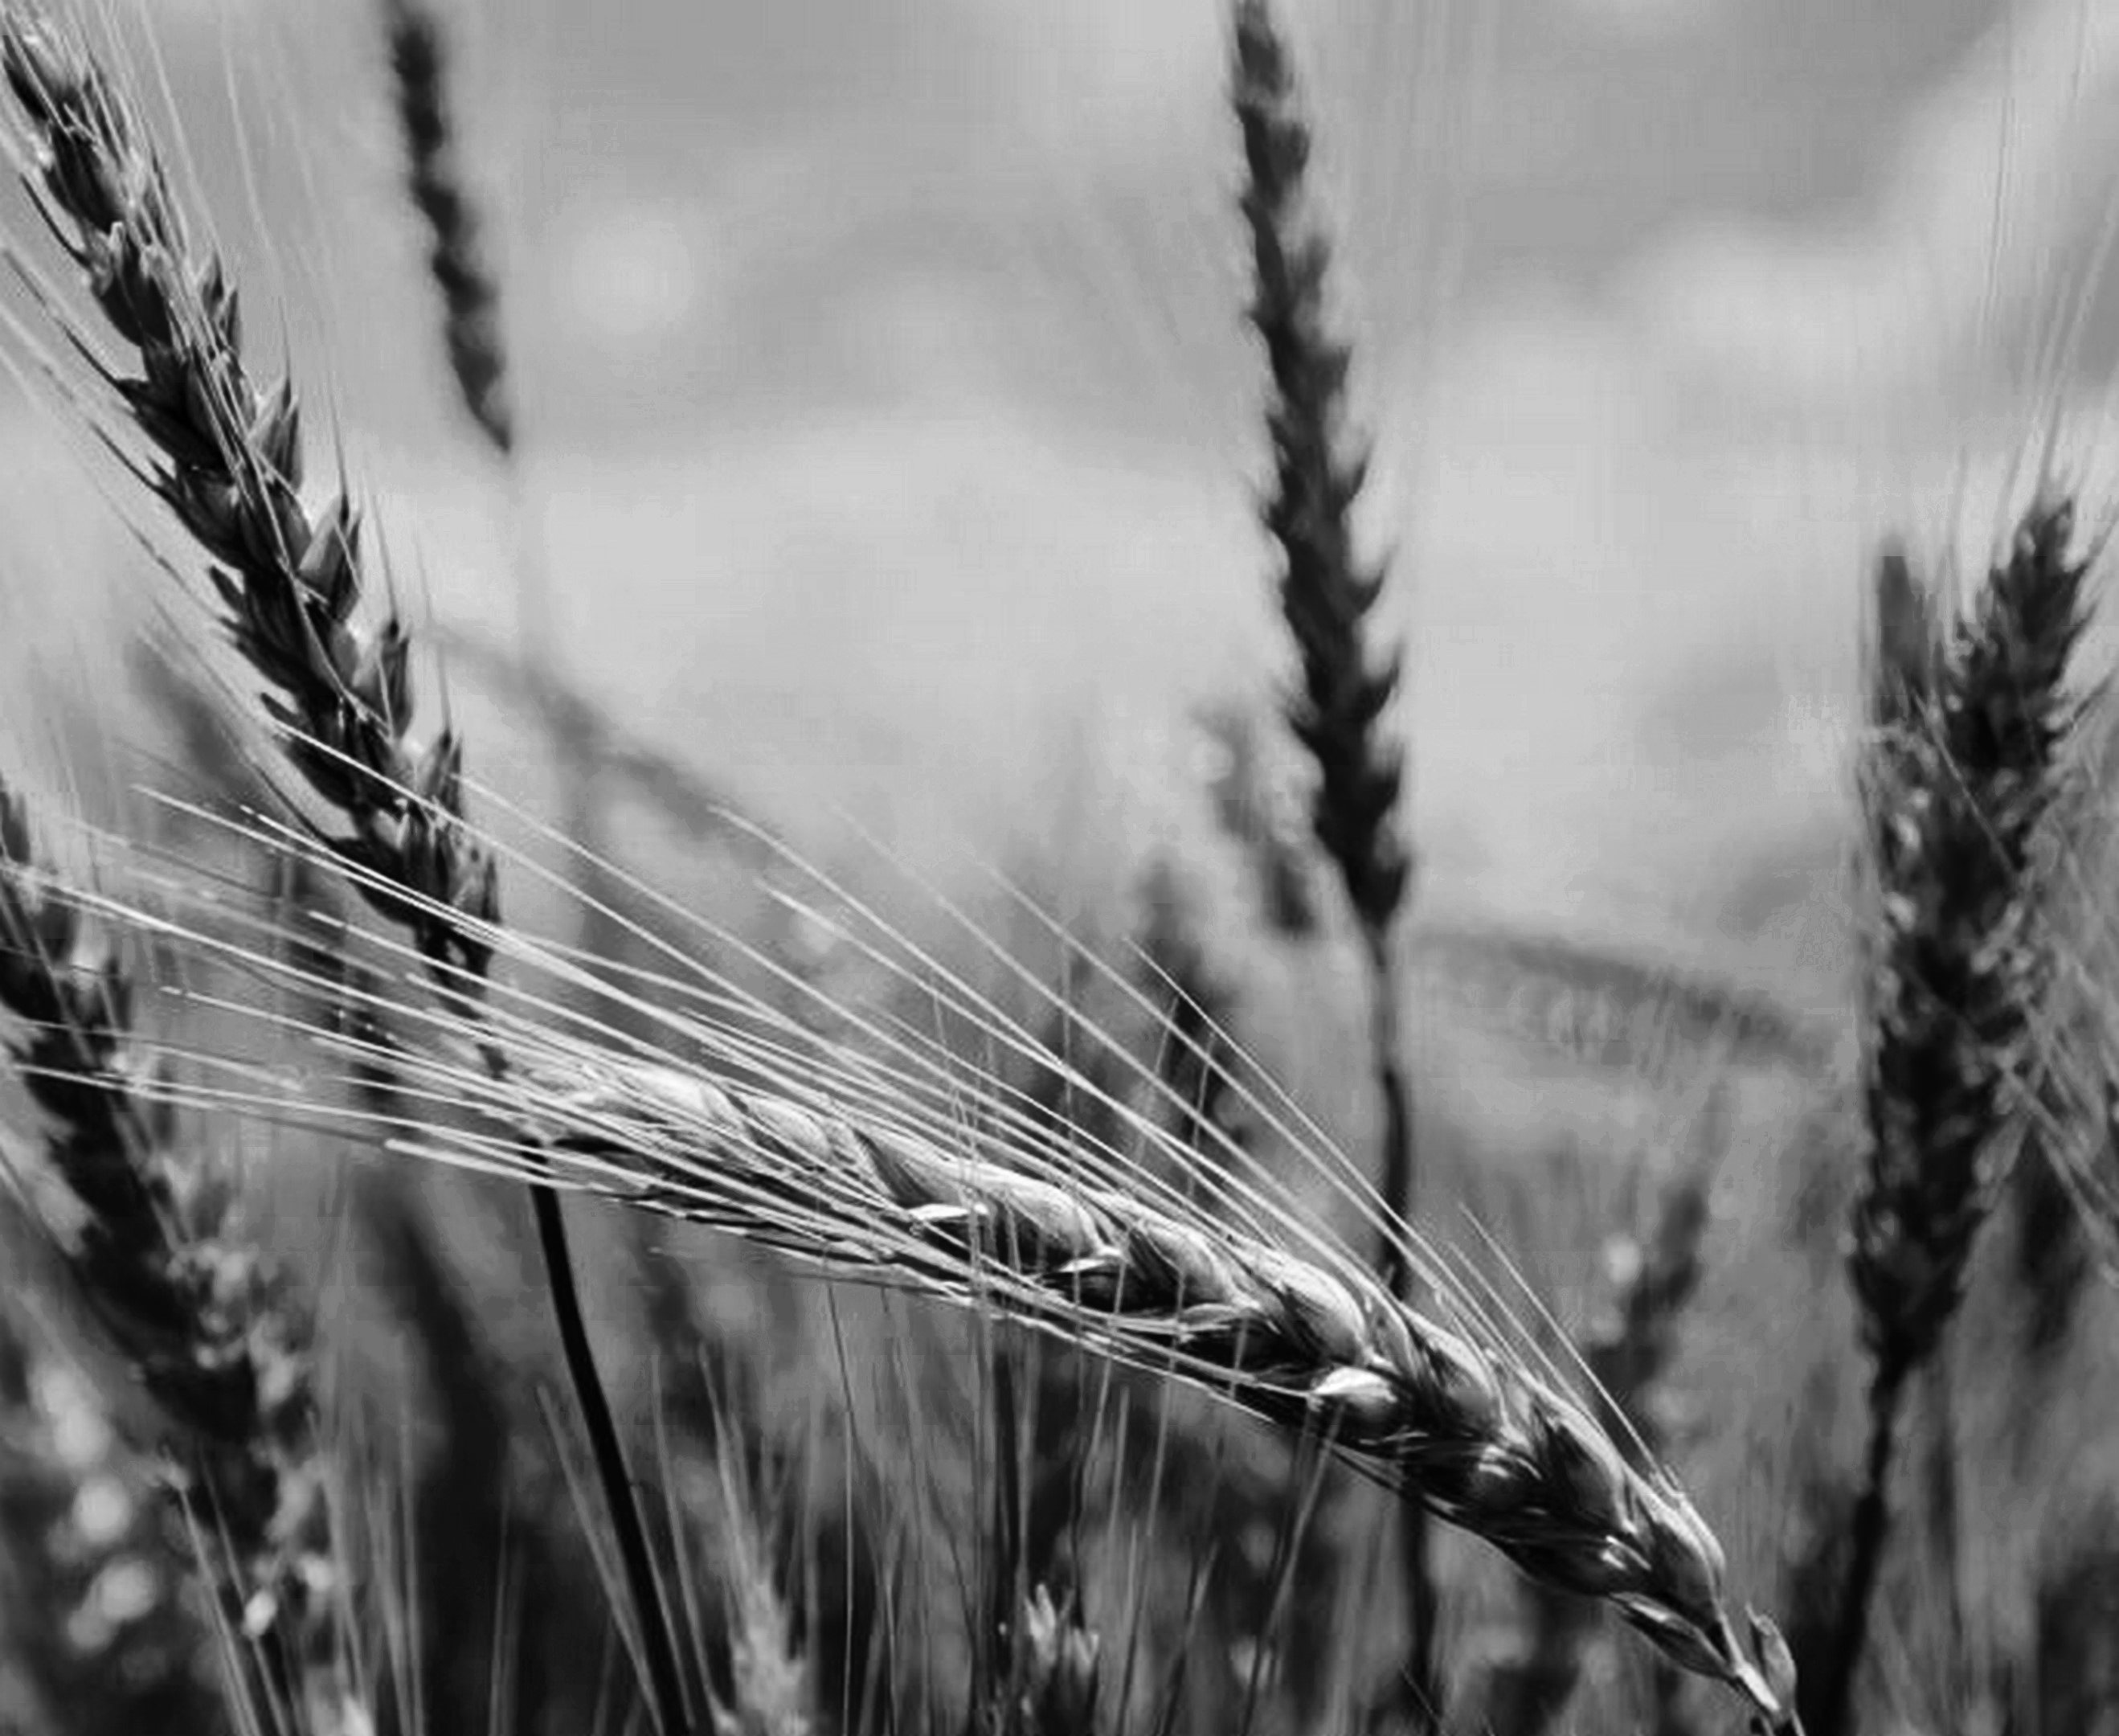Healthy Wheat: (482, 977, 1709, 1611), (32, 53, 503, 910)
